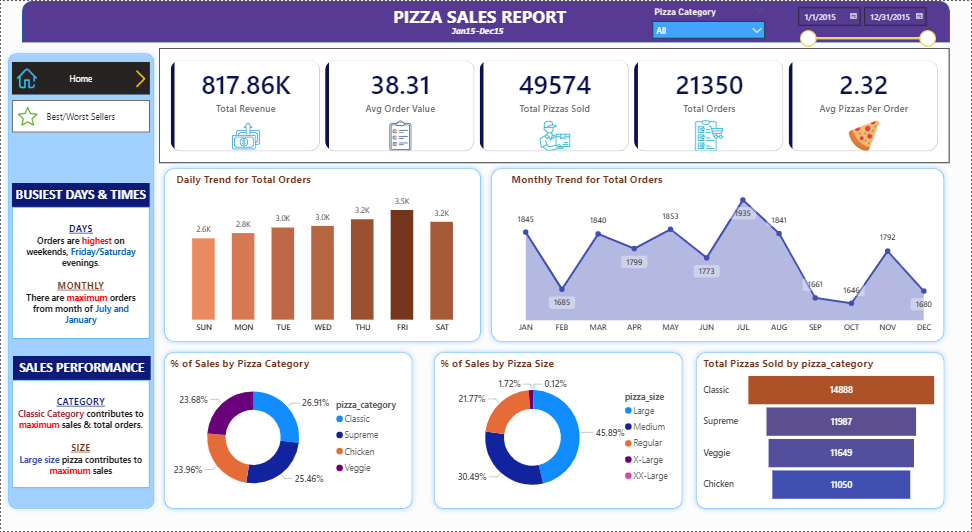

This screenshot's page, from the dashboard's own definition file:
{"tool":"powerbi","page":{"name":"Home","canvas":[1500,820],"ordinal":0},"visuals":[{"type":"cardVisual","fields":{"Data":["pizza_sales.Total Revenue","pizza_sales.Avg Order Value","pizza_sales.Total Pizzas Sold","pizza_sales.Total Orders","pizza_sales.Avg Pizzas Per Order"]},"box":[244.6,72.3,1223.1,178.5],"z":0},{"type":"shape","box":[32.2,0,1435.6,64.4],"z":1000},{"type":"textbox","box":[601.7,0,298.3,50.8],"z":2000},{"type":"textbox","box":[691.5,32.2,118.6,35.6],"z":3000},{"type":"shape","box":[244.6,250.8,506.2,284.6],"z":4000},{"type":"columnChart","title":"Daily Trend for Total Orders","fields":{"Category":["pizza_sales.Order Day"],"Y":["pizza_sales.Total Orders"]},"box":[266.2,264.6,464.6,258.5],"z":5000},{"type":"shape","box":[750.8,250.8,716.9,284.6],"z":6000},{"type":"areaChart","title":"Monthly Trend for Total Orders","fields":{"Y":["pizza_sales.Total Orders"],"Category":["pizza_sales.Order Month"]},"box":[784.6,264.6,670.8,258.5],"z":7000},{"type":"shape","box":[244.6,535.4,400,258.5],"z":8000},{"type":"shape","box":[3,72,242,721],"z":9000},{"type":"shape","box":[661.5,535.4,400,258.5],"z":10000},{"type":"shape","box":[1067.7,535.4,400,258.5],"z":11000},{"type":"donutChart","title":"% of Sales by Pizza Category","fields":{"Category":["pizza_sales.pizza_category"],"Y":["pizza_sales.Total Revenue"]},"box":[256.9,549.2,375.4,230.8],"z":12000},{"type":"donutChart","title":"% of Sales by Pizza Size","fields":{"Category":["pizza_sales.pizza_size"],"Y":["pizza_sales.Total Revenue"]},"box":[673.8,549.2,375.4,230.8],"z":13000},{"type":"funnel","fields":{"Category":["pizza_sales.pizza_category"],"Y":["pizza_sales.Total Pizzas Sold"]},"box":[1081.5,549.2,372.3,230.8],"z":14000},{"type":"textbox","box":[17,282,213,37],"z":15000},{"type":"textbox","box":[17,319,213,204],"z":16000},{"type":"textbox","box":[18,549,213,37],"z":17000},{"type":"textbox","box":[17.1,585.7,212.9,167.1],"z":18000},{"type":"slicer","fields":{"Values":["pizza_sales.pizza_category"]},"box":[998.6,2.9,194.3,60],"z":19000},{"type":"slicer","fields":{"Values":["pizza_sales.order_date"]},"box":[1221.4,0,234.3,81.4],"z":20000},{"type":"pageNavigator","box":[16.7,95,213.3,50],"z":21000},{"type":"pageNavigator","box":[16.7,153.3,213.3,50],"z":22000},{"type":"image","box":[202.5,106.9,27.5,26.9],"z":22001},{"type":"image","box":[25.6,162.5,30,31.2],"z":22002},{"type":"image","box":[21.9,104.4,36.9,31.9],"z":22003}]}

Visuals, with their boxes in screenshot pixels (x1, y1, x2, y2), scaled from the page's 1500x820 canvas onto the 972x532 screenshot:
cardVisual - pizza_sales.Total Revenue x pizza_sales.Avg Order Value: region(159, 47, 951, 163)
shape: region(21, 0, 951, 42)
textbox: region(390, 0, 583, 33)
textbox: region(448, 21, 525, 44)
shape: region(159, 163, 487, 347)
"Daily Trend for Total Orders" columnChart: region(172, 172, 474, 339)
shape: region(487, 163, 951, 347)
"Monthly Trend for Total Orders" areaChart: region(508, 172, 943, 339)
shape: region(159, 347, 418, 515)
shape: region(2, 47, 159, 514)
shape: region(429, 347, 688, 515)
shape: region(692, 347, 951, 515)
"% of Sales by Pizza Category" donutChart: region(166, 356, 410, 506)
"% of Sales by Pizza Size" donutChart: region(437, 356, 680, 506)
funnel - pizza_sales.pizza_category x pizza_sales.Total Pizzas Sold: region(701, 356, 942, 506)
textbox: region(11, 183, 149, 207)
textbox: region(11, 207, 149, 339)
textbox: region(12, 356, 150, 380)
textbox: region(11, 380, 149, 488)
slicer - pizza_sales.pizza_category: region(647, 2, 773, 41)
slicer - pizza_sales.order_date: region(791, 0, 943, 53)
pageNavigator: region(11, 62, 149, 94)
pageNavigator: region(11, 99, 149, 132)
image: region(131, 69, 149, 87)
image: region(17, 105, 36, 126)
image: region(14, 68, 38, 88)
